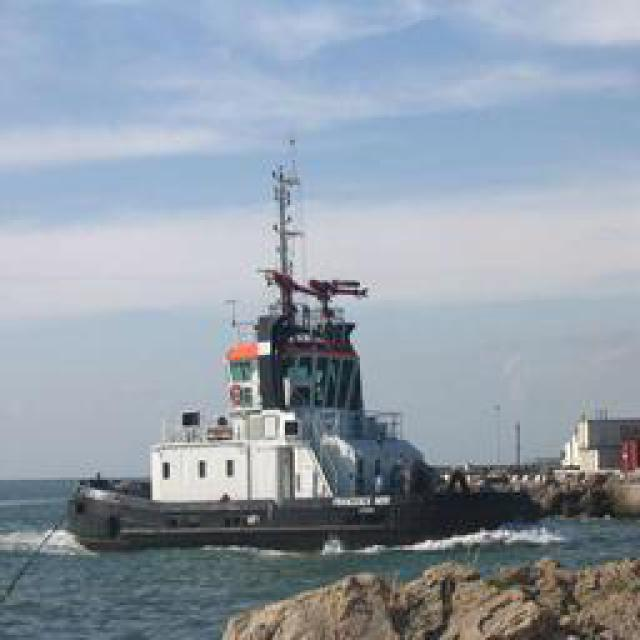Ship: (70, 229, 528, 539)
